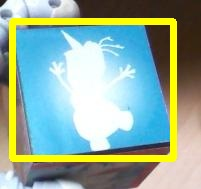Blue2: (14, 23, 173, 158)
